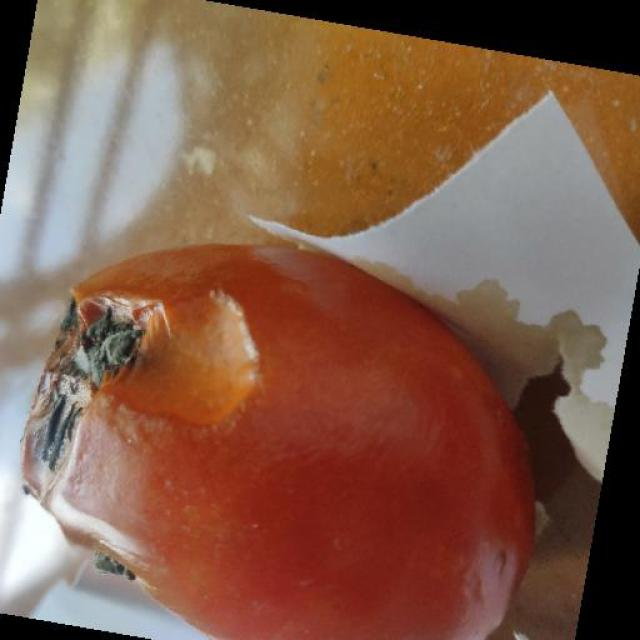Stale_tomato: (49, 229, 540, 640)
